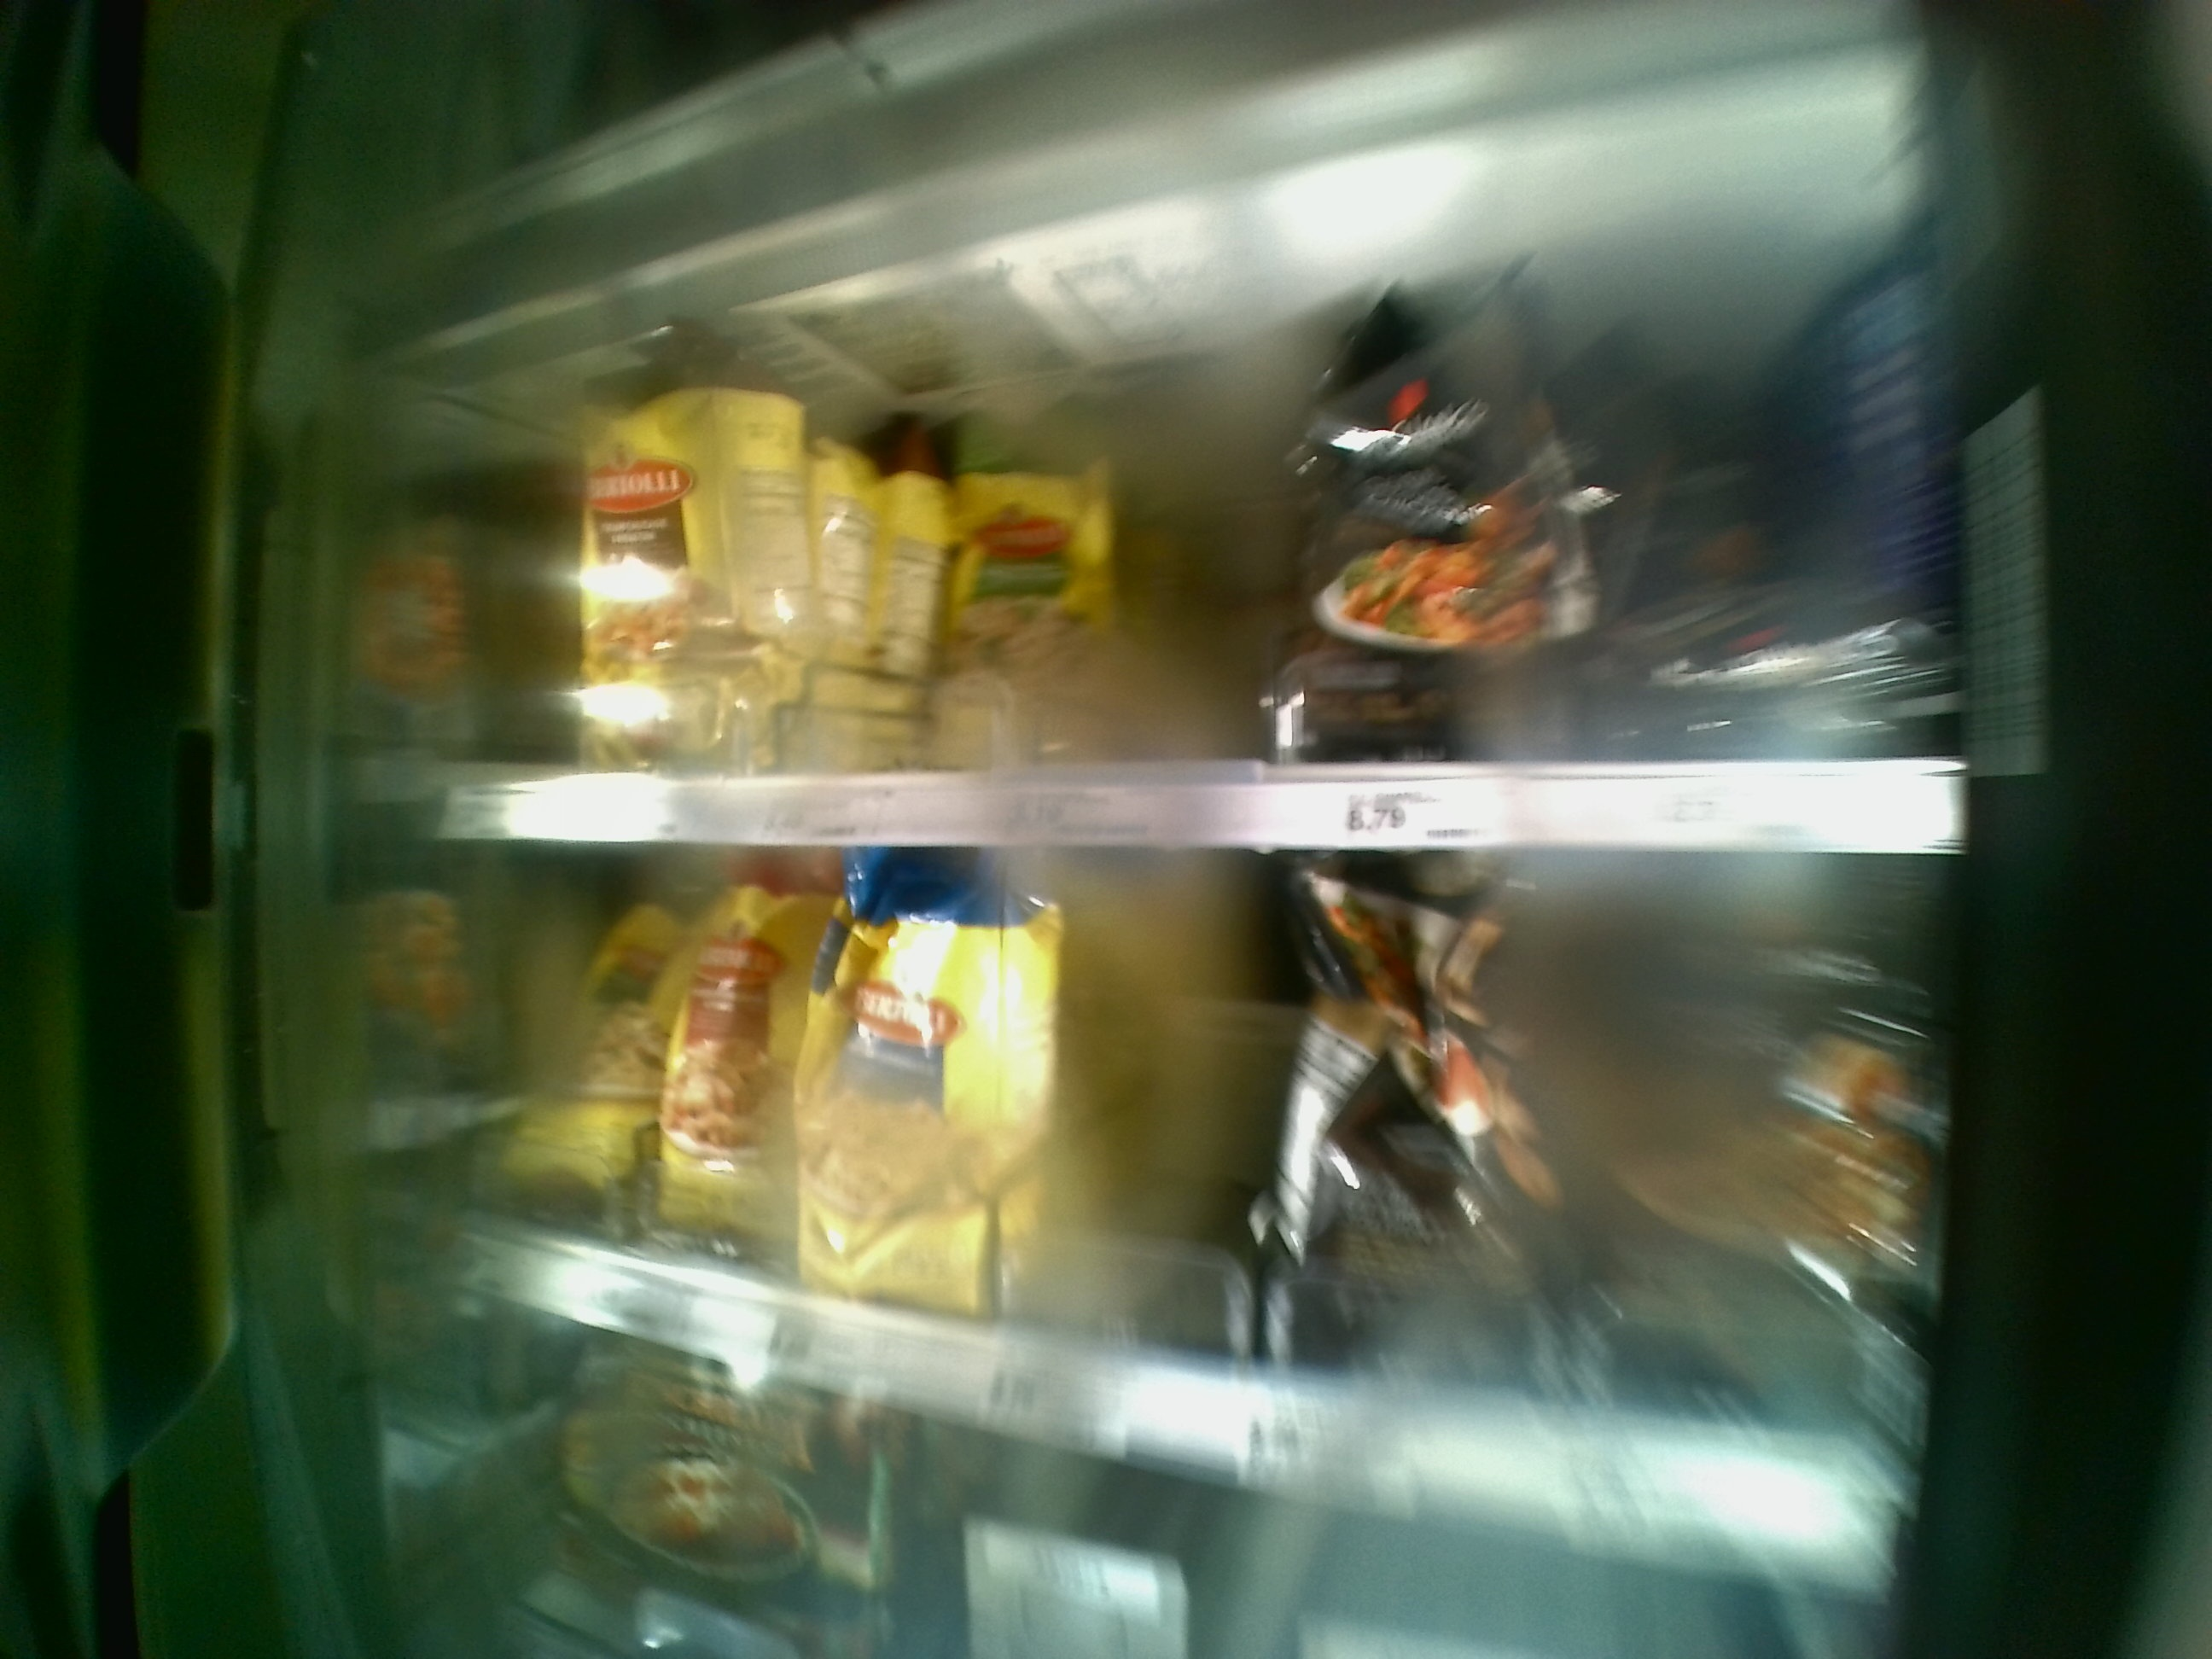shelf: (387, 856, 1951, 1527), (373, 207, 1963, 849)
